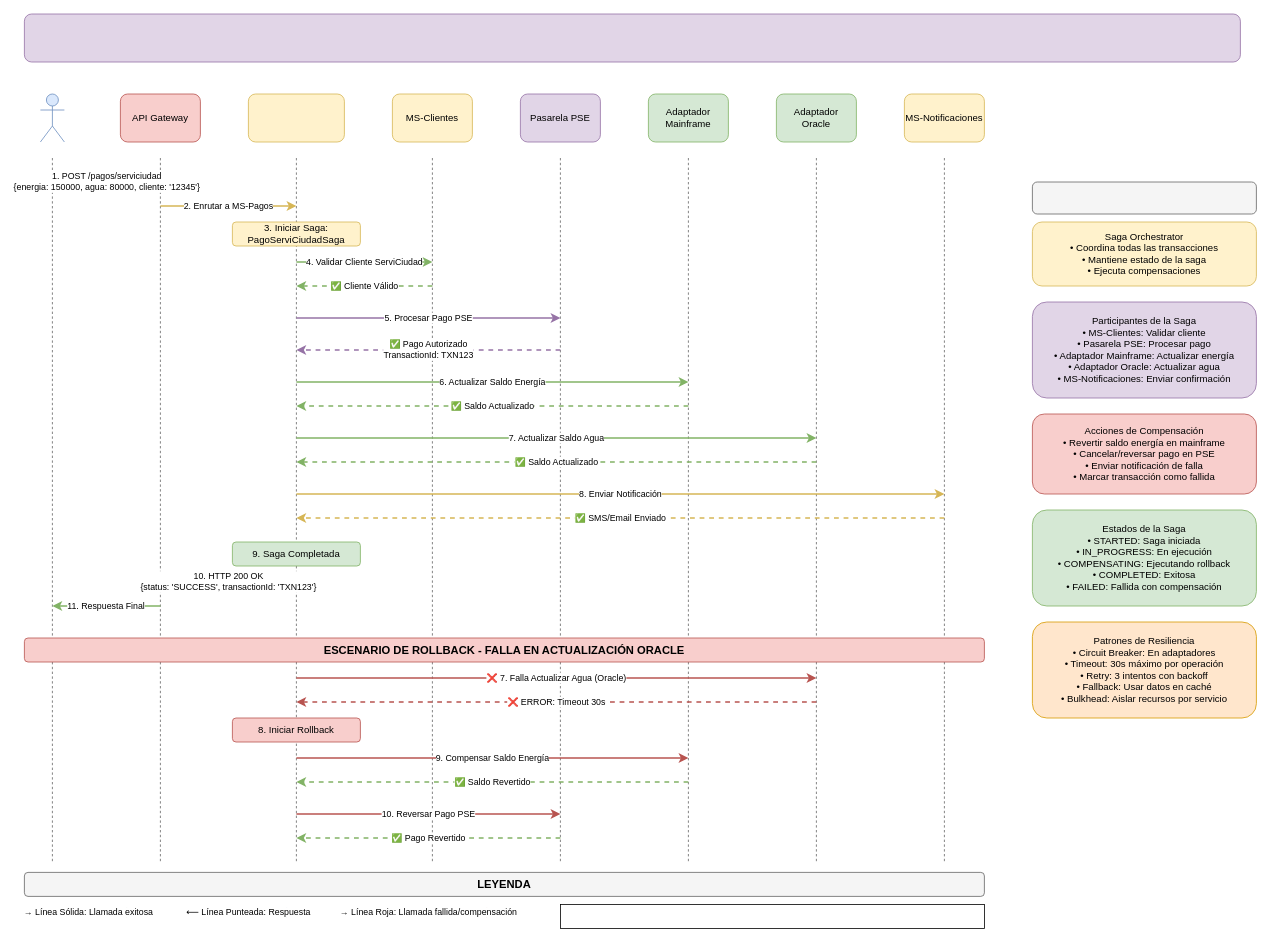
Image size: 1270x942. Some labels were removed from this diagram. Each missing label, with the box of its shape:
Ciudadano: (40, 93, 64, 142)
MS-Pagos (Saga Orchestrator): (248, 93, 344, 142)
PATRONES Y COMPONENTES SAGA: (1032, 181, 1256, 214)
SAGA PATTERN - PAGO DISTRIBUIDO SERVICIUDAD: (24, 13, 1240, 62)
🟢 Verde: Éxito | 🔵 Azul: Proceso | 🔴 Rojo: Falla | 🟡 Amarillo: MS Core: (560, 904, 984, 928)
